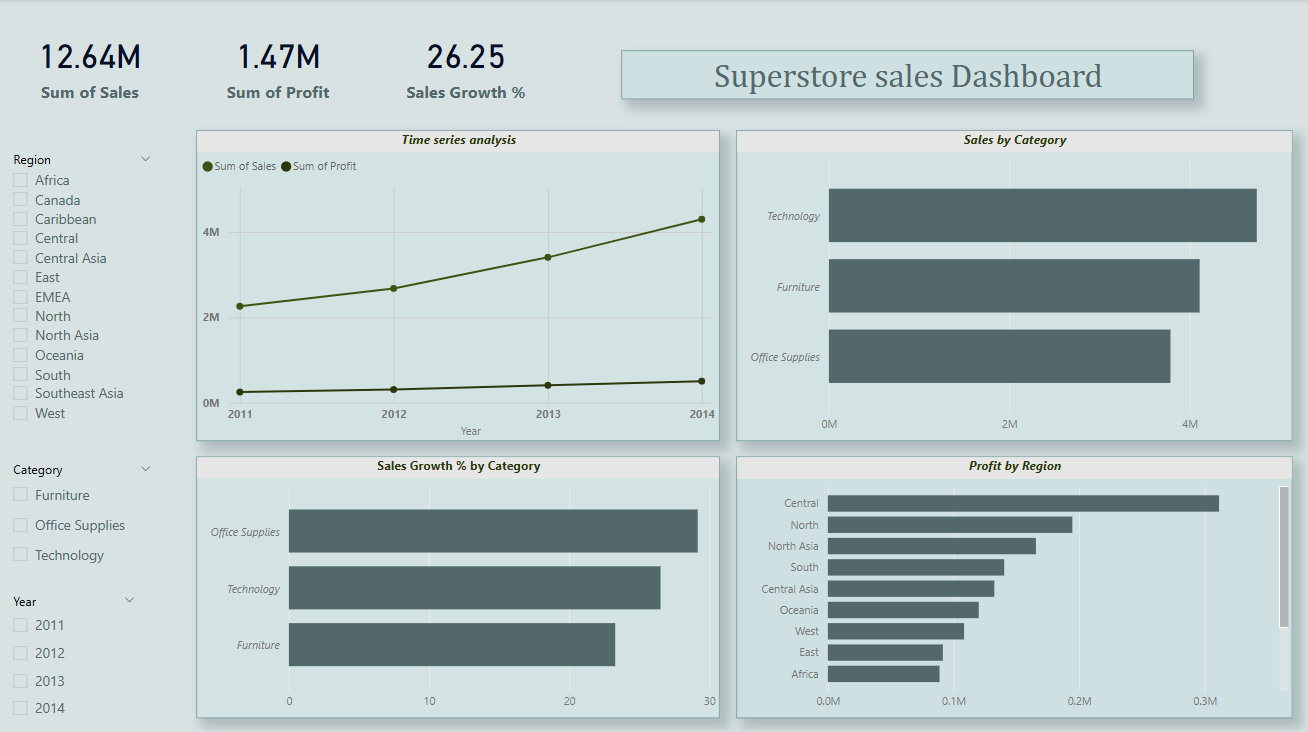

This screenshot's page, from the dashboard's own definition file:
{"tool":"powerbi","page":{"name":"Dashboard","canvas":[1280,720],"ordinal":0},"visuals":[{"type":"card","fields":{"Values":["Sum(Superstore.Sales)"]},"box":[0,0,176,128],"z":0},{"type":"card","fields":{"Values":["Sum(Superstore.Profit)"]},"box":[176,0,192,128],"z":1000},{"type":"card","fields":{"Values":["Superstore.Sales Growth %"]},"box":[368,0,176,128],"z":2000},{"type":"slicer","fields":{"Values":["Superstore.Region"]},"box":[0,144,160,288],"z":3000},{"type":"slicer","fields":{"Values":["Superstore.Category"]},"box":[0,448,160,128],"z":4000},{"type":"slicer","fields":{"Values":["Superstore.Year"]},"box":[0,576,144,144],"z":5000},{"type":"lineChart","title":"Time series analysis","fields":{"Category":["Superstore.Order Date.Variation.Date Hierarchy.Year","Superstore.Order Date.Variation.Date Hierarchy.Quarter","Superstore.Order Date.Variation.Date Hierarchy.Month","Superstore.Order Date.Variation.Date Hierarchy.Day"],"Y":["Sum(Superstore.Sales)","Sum(Superstore.Profit)"]},"box":[192,128,512,304],"z":6000},{"type":"clusteredBarChart","title":"Sales by Category","fields":{"Category":["Superstore.Category"],"Y":["Sum(Superstore.Sales)"]},"box":[720,128,544,304],"z":7000},{"type":"clusteredBarChart","title":"Profit by Region","fields":{"Y":["Sum(Superstore.Profit)"],"Category":["Superstore.Region"]},"box":[720,448,544,256],"z":8000},{"type":"clusteredBarChart","fields":{"Y":["Superstore.Sales Growth %"],"Category":["Superstore.Category"]},"box":[192,448,512,256],"z":9000},{"type":"textbox","box":[608,50,560,48],"z":9001}]}

Visuals, with their boxes in screenshot pixels (x1, y1, x2, y2), scaled from the page's 1280x720 canvas onto the 1308x732 screenshot:
card - Sum(Superstore.Sales): rect(0, 0, 180, 130)
card - Sum(Superstore.Profit): rect(180, 0, 376, 130)
card - Superstore.Sales Growth %: rect(376, 0, 556, 130)
slicer - Superstore.Region: rect(0, 146, 164, 439)
slicer - Superstore.Category: rect(0, 455, 164, 586)
slicer - Superstore.Year: rect(0, 586, 147, 731)
"Time series analysis" lineChart: rect(196, 130, 719, 439)
"Sales by Category" clusteredBarChart: rect(736, 130, 1292, 439)
"Profit by Region" clusteredBarChart: rect(736, 455, 1292, 716)
clusteredBarChart - Superstore.Sales Growth % x Superstore.Category: rect(196, 455, 719, 716)
textbox: rect(621, 51, 1194, 100)
